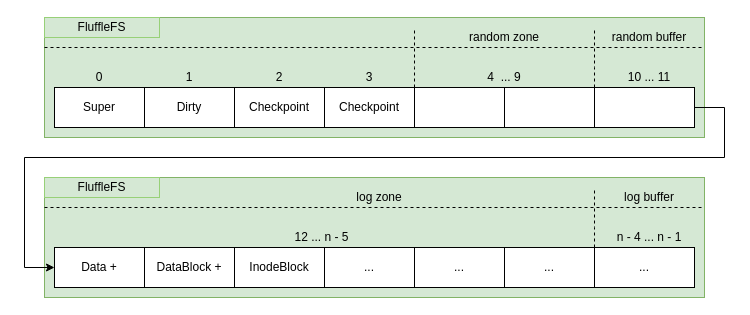
Image size: 750x315. Some labels were removed from this diagram. The centre of each missing label's shape, as x and y in pixels:
NAT: (x=459, y=107)
NAT + SIT: (x=644, y=107)
SIT: (x=549, y=107)
